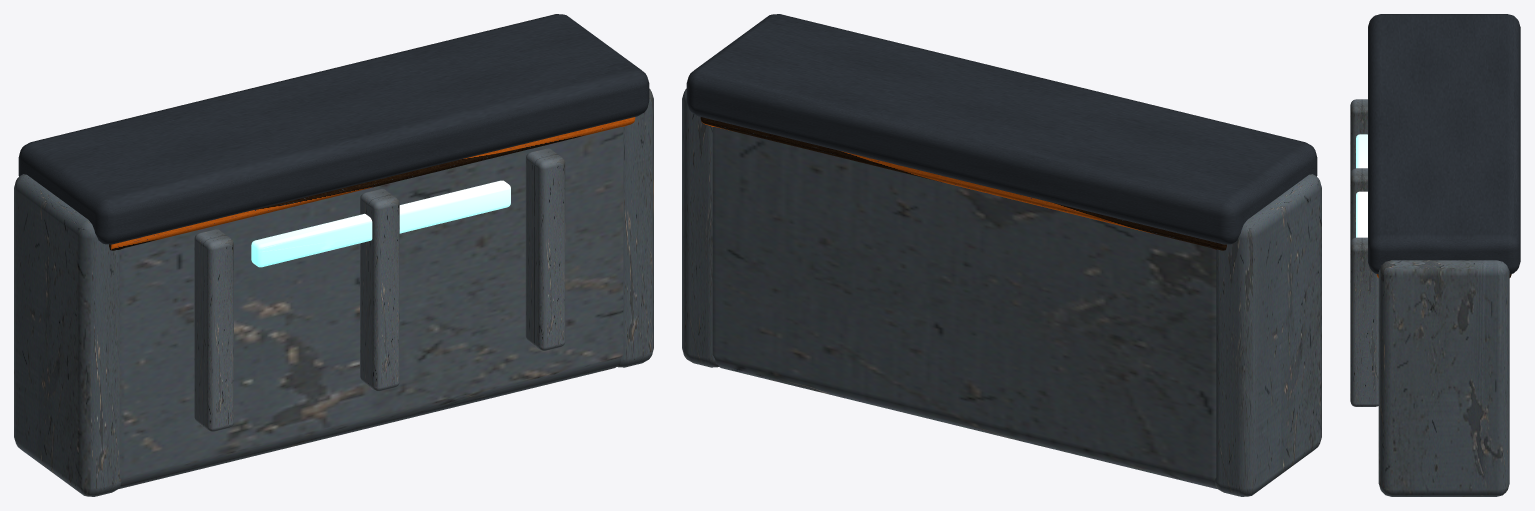
File: cover_barrier.glb
The picture shows the model from 3 angles, left to right: view 1: azimuth 30°, elevation 25°; view 2: azimuth 150°, elevation 25°; view 3: azimuth 270°, elevation 25°; orthographic projection. The views are drawn at different scales.
Parts seen in each view (by area): view 1: CoverBody, CoverTop, CoverEnd-10, BarrierRib7, BarrierRib-7, CoverEnd10, BarrierRib0, BarrierLight, CoverHazard; view 2: CoverBody, CoverTop, CoverEnd-10, CoverEnd10, CoverHazard; view 3: CoverTop, CoverEnd10, BarrierRib7, BarrierLight, BarrierRib-7, BarrierRib0.
Boxes of the visible parts, x1,y1,x2,y2 form: CoverBody: [119, 127, 623, 488]; CoverTop: [18, 14, 649, 244]; CoverEnd-10: [14, 174, 121, 496]; BarrierRib7: [525, 148, 565, 350]; BarrierRib-7: [194, 229, 233, 431]; CoverEnd10: [617, 88, 653, 367]; BarrierRib0: [360, 189, 399, 391]; BarrierLight: [251, 180, 510, 267]; CoverHazard: [109, 117, 635, 250]; CoverBody: [712, 127, 1216, 488]; CoverTop: [686, 14, 1317, 244]; CoverEnd-10: [1214, 174, 1321, 496]; CoverEnd10: [682, 88, 718, 367]; CoverHazard: [700, 117, 1226, 250]; CoverTop: [1368, 14, 1520, 274]; CoverEnd10: [1378, 260, 1509, 496]; BarrierRib7: [1350, 237, 1378, 406]; BarrierLight: [1356, 134, 1367, 237]; BarrierRib-7: [1350, 99, 1367, 173]; BarrierRib0: [1350, 168, 1367, 242].
Bounding box in the file's own units: 2.6 × 1.3 × 0.78.
Materials: 5 (5 with a texture image).
